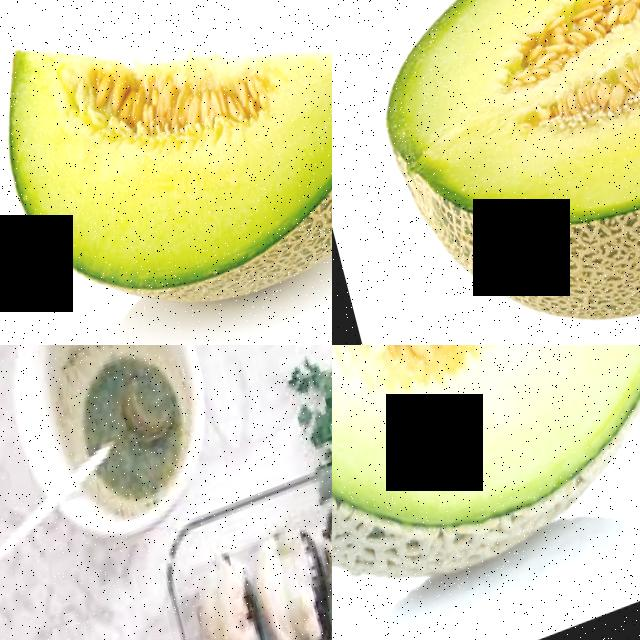melon: (0, 0, 332, 345), (352, 0, 640, 345), (332, 345, 640, 640)
